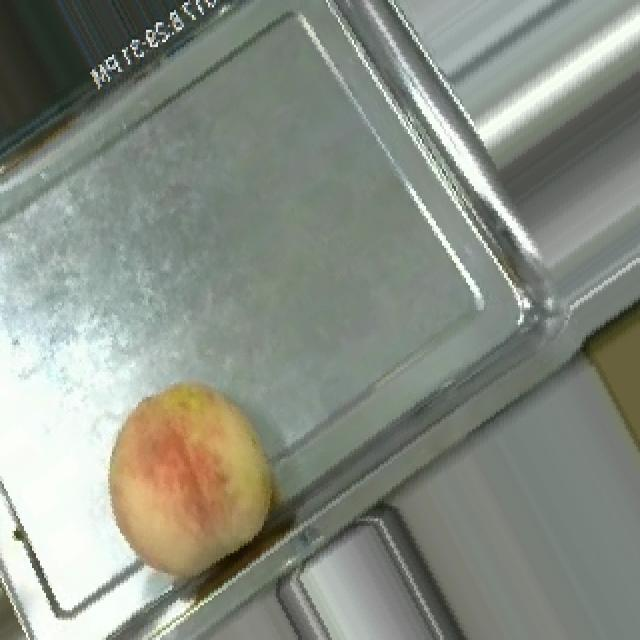Fruit: (70, 354, 308, 608), (568, 271, 640, 528)
